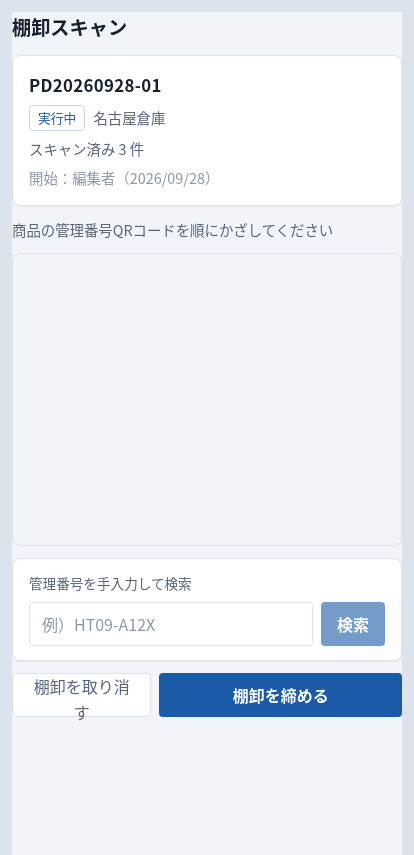
it: stocktake session (M3-6) › records the item and derives the warnNotInStock warning in the card
Type "HT09-A1X" into the field with id "stocktake-manual-input".
click(171, 624); type("HT09-A1X")  # box 29,602 -> 313,646
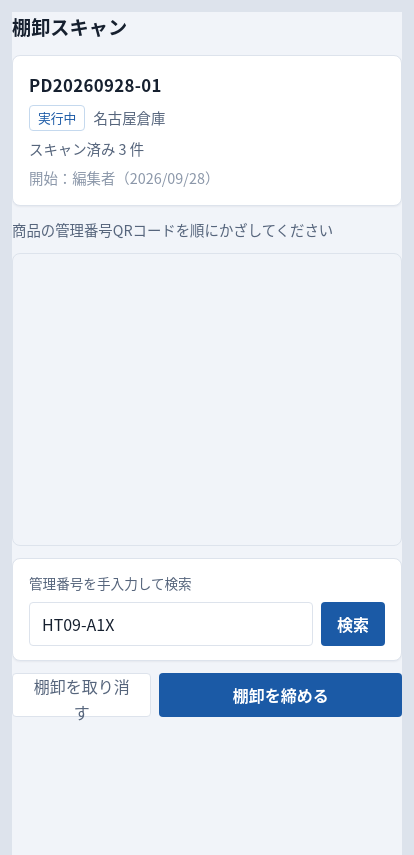
Submit the form with class "session-manual", box 12,558 -> 402,662
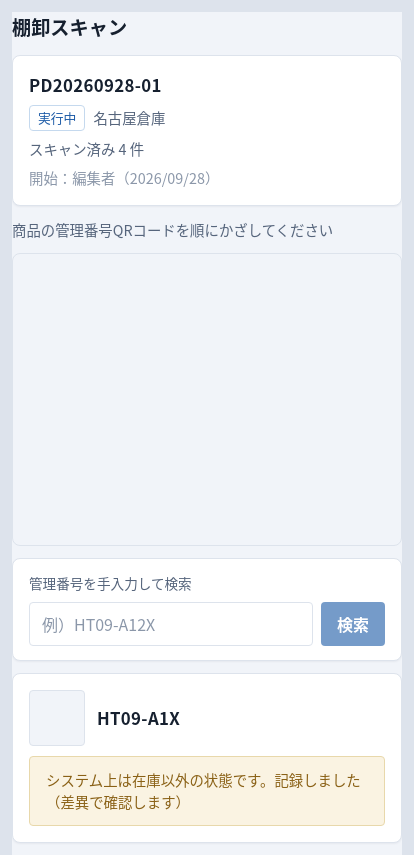
Result: the text "スキャン済み 4 件" is shown at 29,138 -> 144,159
Result: the text with class "is-warning" shows "システム上は在庫以外の状態です" at 46,770 -> 361,812
